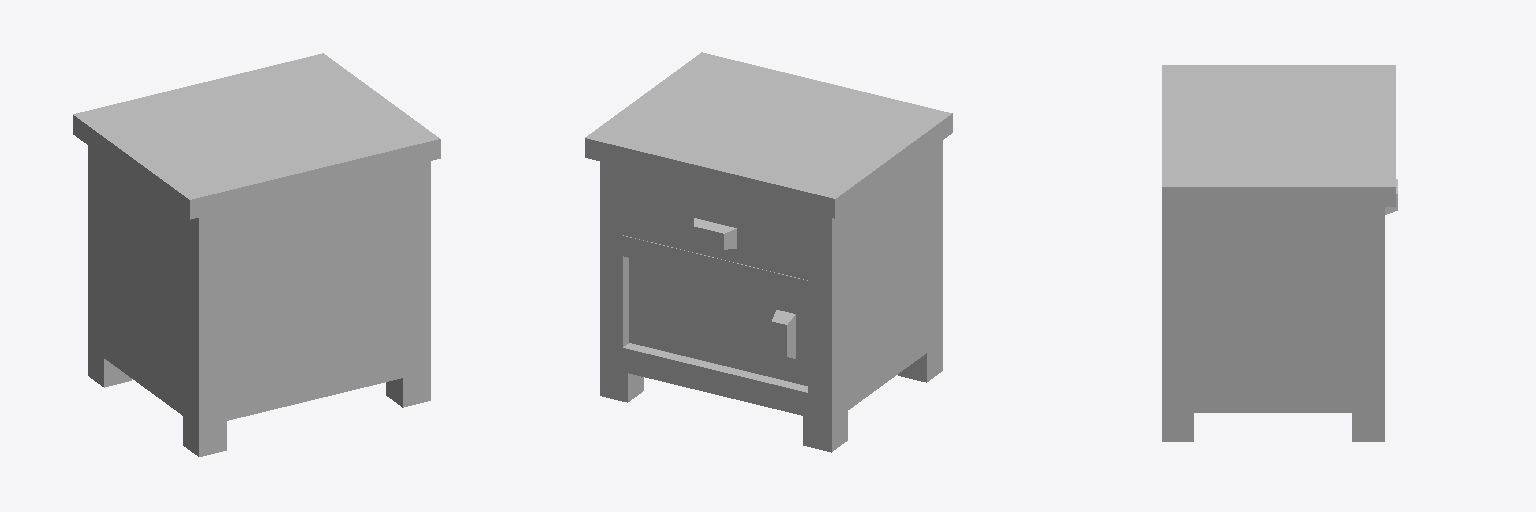
File: cabinetBedDrawer.obj
3 views of the same model, side by side, from view 1: azimuth 30°, elevation 25°; view 2: azimuth 150°, elevation 25°; view 3: azimuth 270°, elevation 25° (orthographic).
Parts seen in each view (by area): view 1: cabinetBedDrawer; view 2: cabinetBedDrawer, door 2, drawer; view 3: cabinetBedDrawer.
Boxes of the visible parts, box(x1,y1,x2,y2) form: cabinetBedDrawer: box(73, 53, 440, 456); cabinetBedDrawer: box(585, 52, 952, 452); door 2: box(629, 258, 807, 385); drawer: box(623, 186, 807, 279); cabinetBedDrawer: box(1162, 65, 1395, 441).
Bounding box in the file's own units: 2.66 × 2.63 × 2.17.